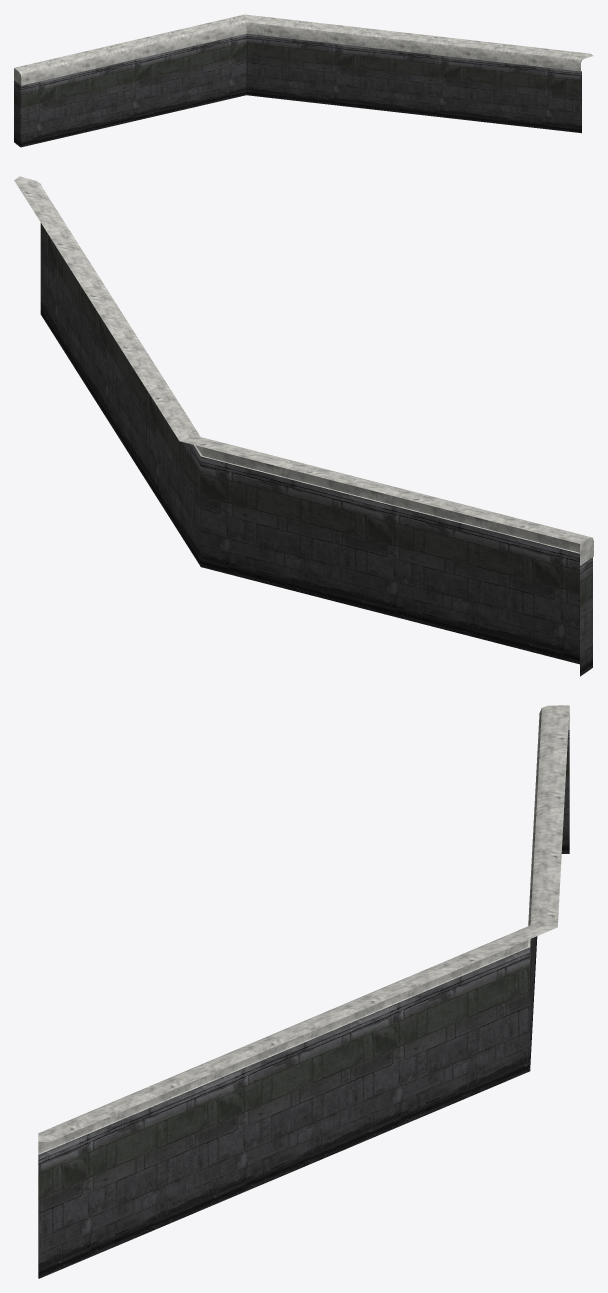
File: SM_Banchina_Testata_LOD2.fbx
3 views of the same model, one above another, from view 1: azimuth 30°, elevation 25°; view 2: azimuth 150°, elevation 25°; view 3: azimuth 270°, elevation 25° (orthographic). The views are drawn at different scales.
Visible parts, largest first — view 1: SM_Banchina_Testata_LOD2; view 2: SM_Banchina_Testata_LOD2; view 3: SM_Banchina_Testata_LOD2.
Part boxes in pixels (x1,y1,x2,y2): SM_Banchina_Testata_LOD2: (14,14,593,147); SM_Banchina_Testata_LOD2: (14,176,593,676); SM_Banchina_Testata_LOD2: (38,705,569,1278).
Size of the model in its own units: 1887 by 970 by 300.
2 materials, 2 textured.
